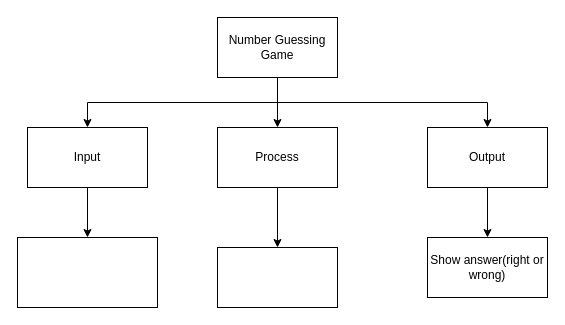
Image size: 565x325. Some labels were removed from this diagram. Here are the shapes that lost their labels. From the top down, the centre of each, then its label:
At point (87, 272): "Get the number the user guesses".
At point (277, 277): "Check if the guessed number is equal to the answer(constant)".
